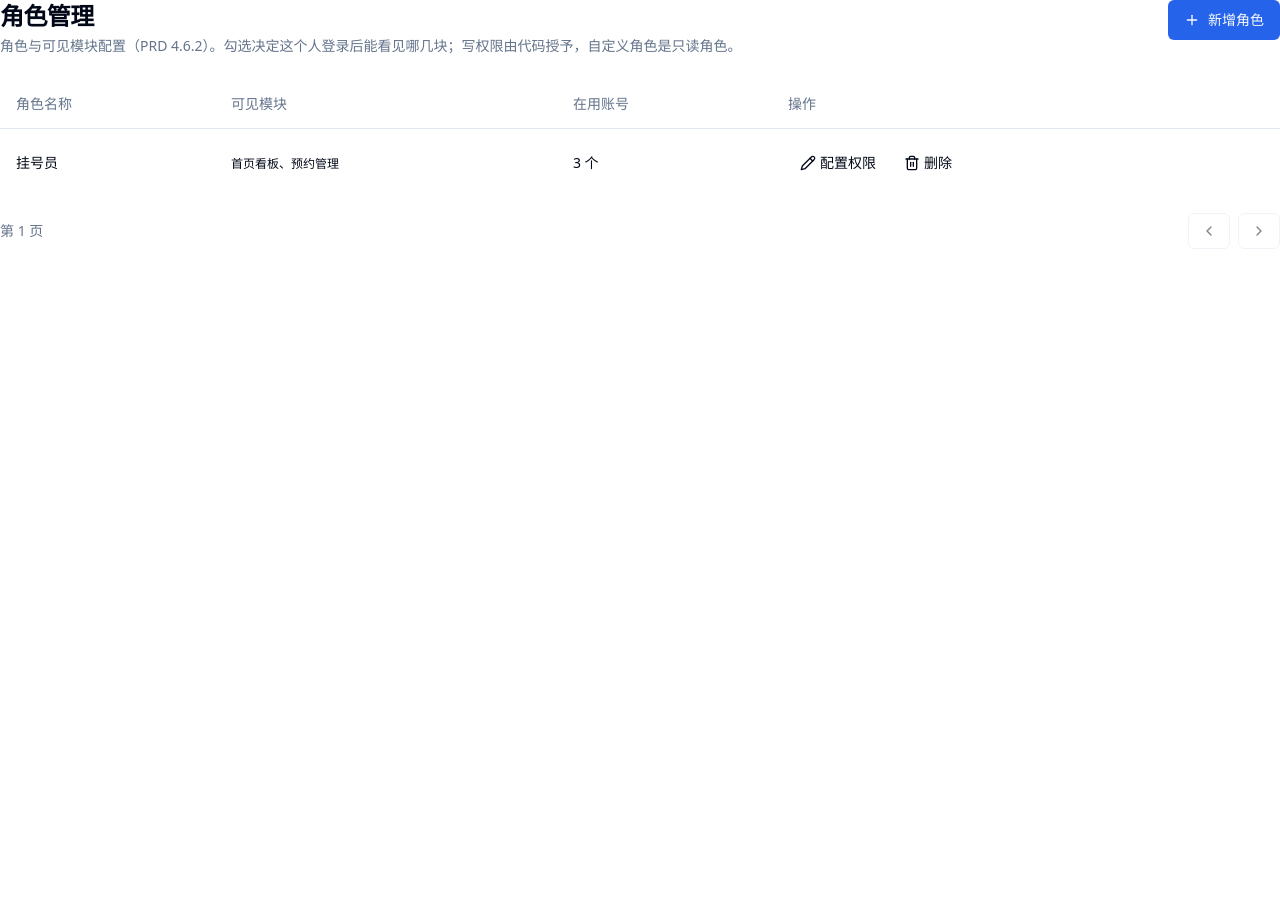
Test: 角色管理页（PRD 4.6.2 的权限配置） › 删除有守卫：确认框里就把"还有几个账号在用"说清楚（后端 4010）
This screenshot has width=1280, height=900.
Click the button with class "role-delete": (928, 162) [892, 144, 964, 180]
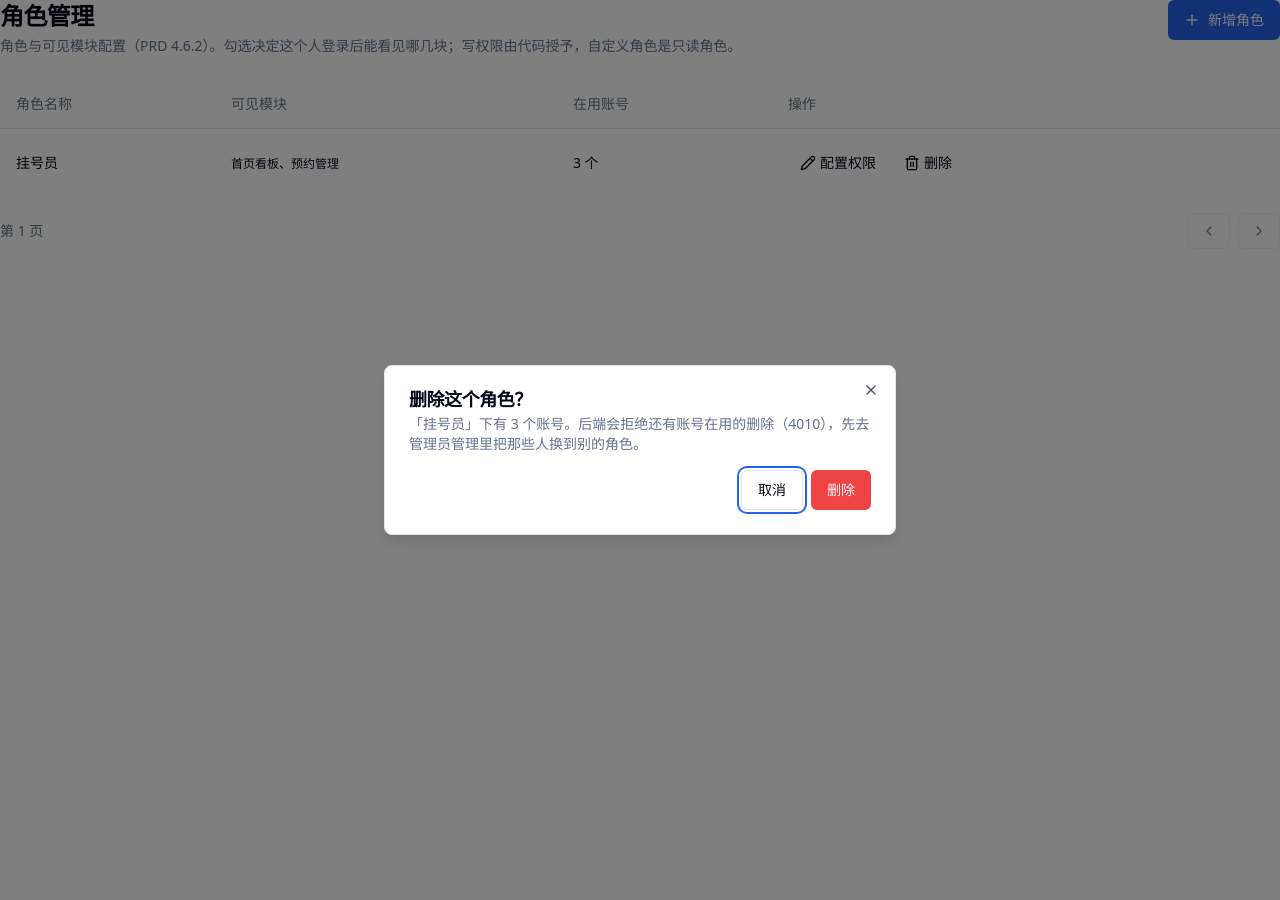
Expected: the text "「挂号员」下有 3 个账号。后端会拒绝还有账号在用的删除（4010），先去管理员管理里把那些人换到别的角色。" is shown, [409, 414, 871, 454]
